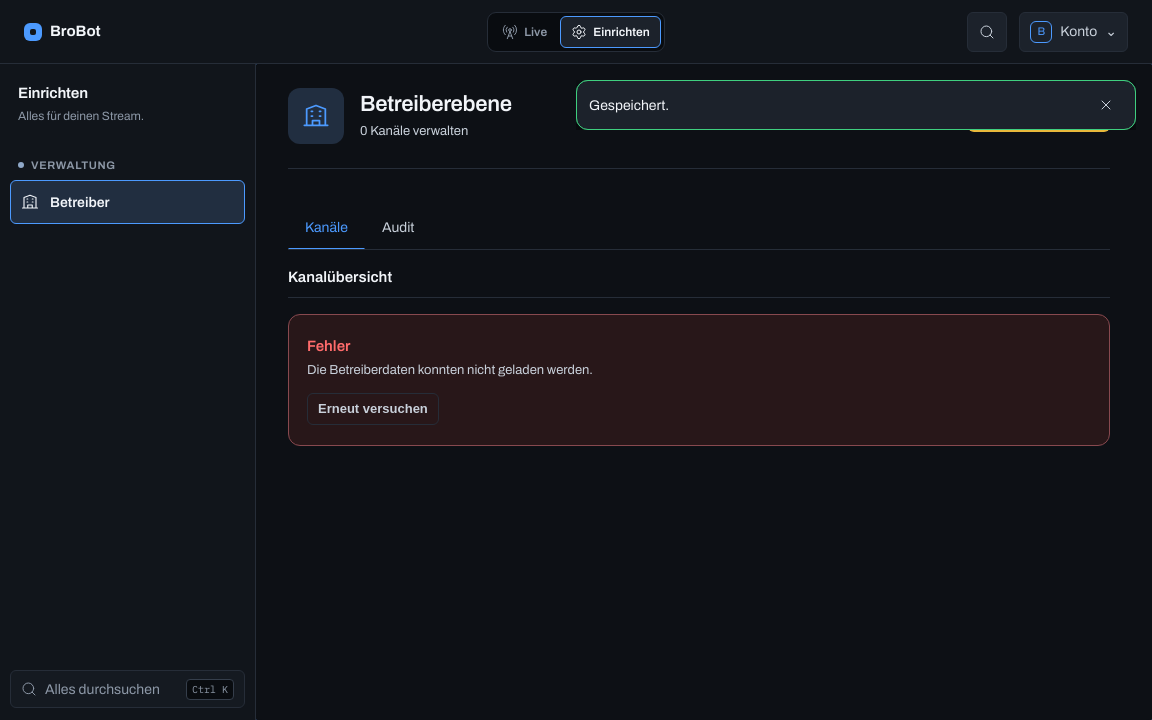
Test: Platform level › load errors › shows the channel list error with a retry while the audit still loads
Check: the message "Fehler Die Betreiberdaten konnten nicht geladen werden. Erneut versuchen" is shown, box 288,314 -> 1110,446
Click the tab "Audit": click(398, 227) 365,205 -> 432,249
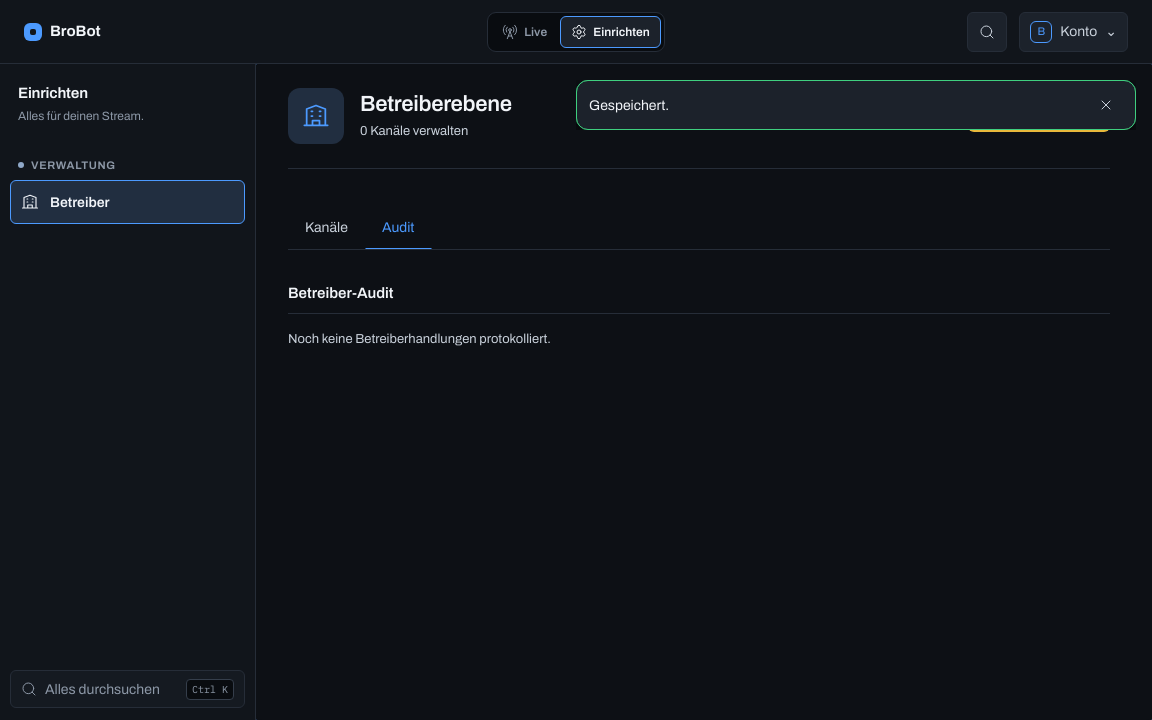
Click the tab "Kanäle": click(326, 227) 288,205 -> 365,249
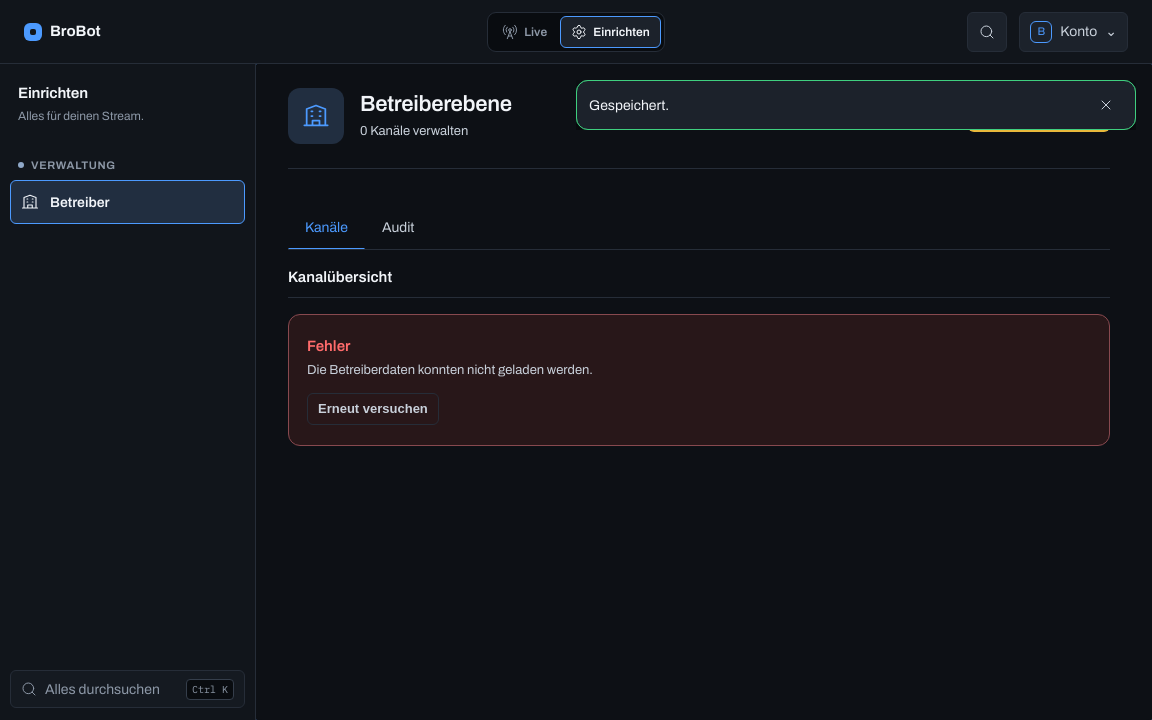
Click the button "Erneut versuchen": click(373, 408) 307,392 -> 439,424
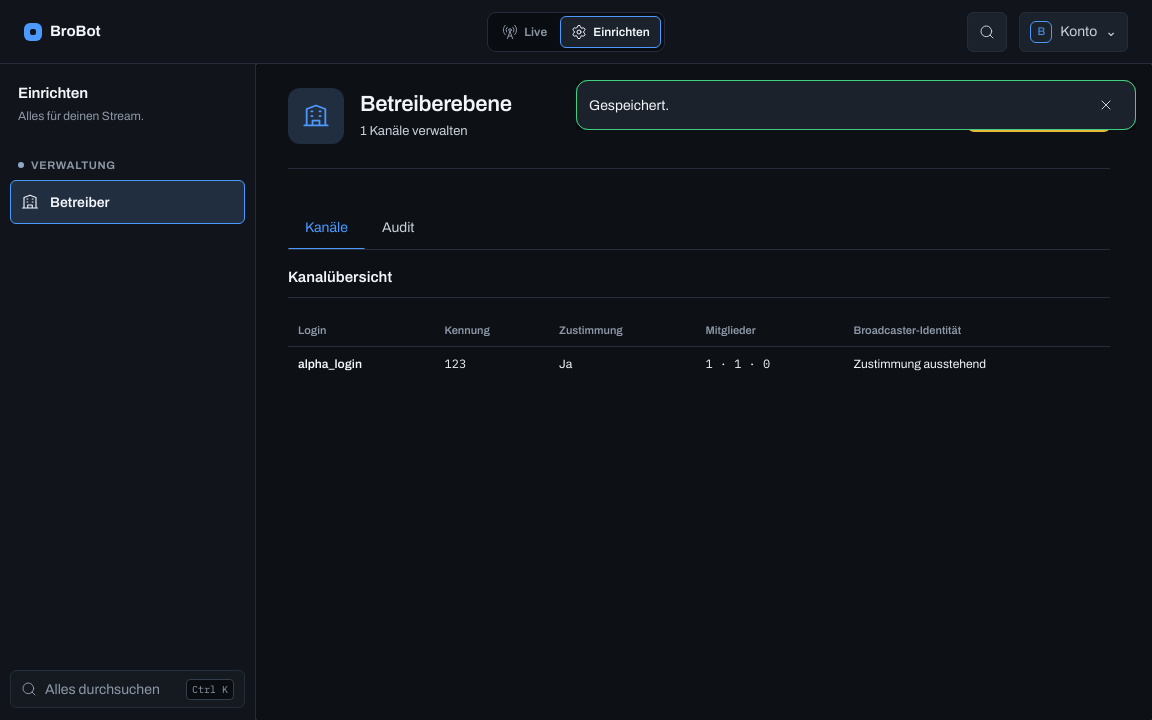
Check: the column heading "alpha_login" is shown, box 288,346 -> 434,381
